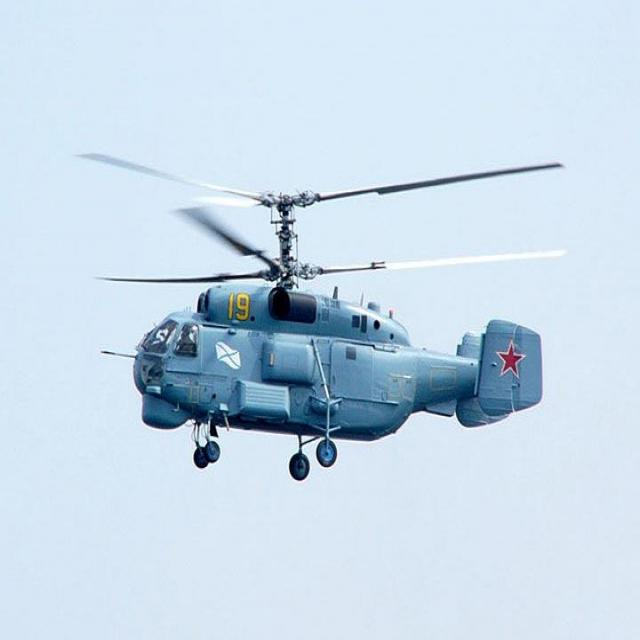MIL_HELO: (69, 142, 574, 484)
